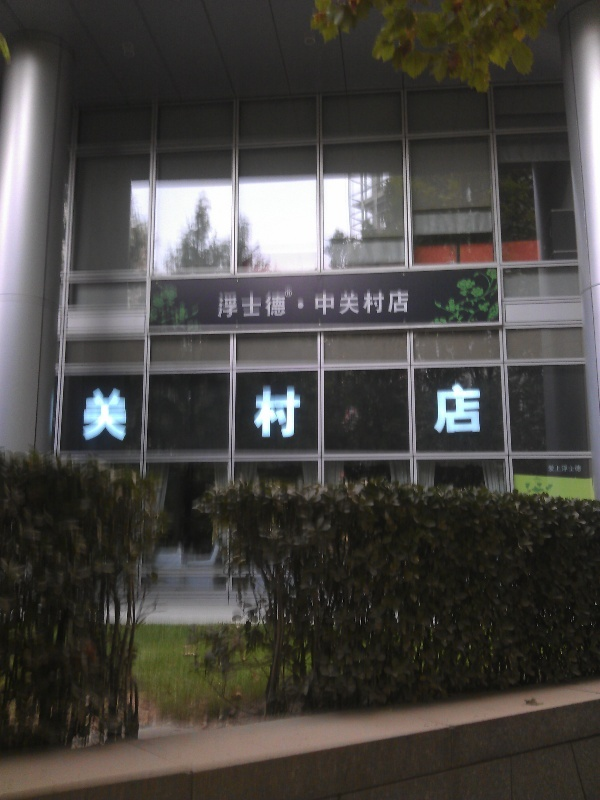text: (97, 382, 112, 440), (113, 382, 128, 440), (129, 382, 144, 440), (145, 382, 160, 440), (161, 382, 176, 440), (177, 382, 192, 440), (193, 382, 208, 440), (209, 382, 224, 440), (225, 382, 240, 440), (241, 382, 256, 440), (257, 382, 272, 440), (273, 382, 288, 440), (289, 382, 304, 440), (305, 382, 320, 440), (321, 382, 336, 440), (337, 382, 352, 440), (353, 382, 368, 440), (369, 382, 384, 440), (385, 382, 400, 440), (401, 382, 416, 440), (417, 382, 432, 440), (433, 382, 448, 440), (449, 382, 464, 440), (465, 382, 480, 440), (83, 382, 96, 440), (225, 288, 240, 319), (241, 288, 256, 319), (257, 288, 272, 319), (273, 288, 288, 319), (289, 288, 304, 319), (305, 288, 320, 319), (321, 288, 336, 319), (337, 288, 352, 319), (353, 288, 368, 319), (369, 288, 384, 319), (385, 288, 400, 319), (401, 288, 410, 319), (216, 288, 224, 319), (481, 382, 484, 440), (561, 465, 576, 474), (549, 465, 560, 474), (577, 465, 583, 474), (289, 291, 291, 297), (287, 291, 288, 297)
